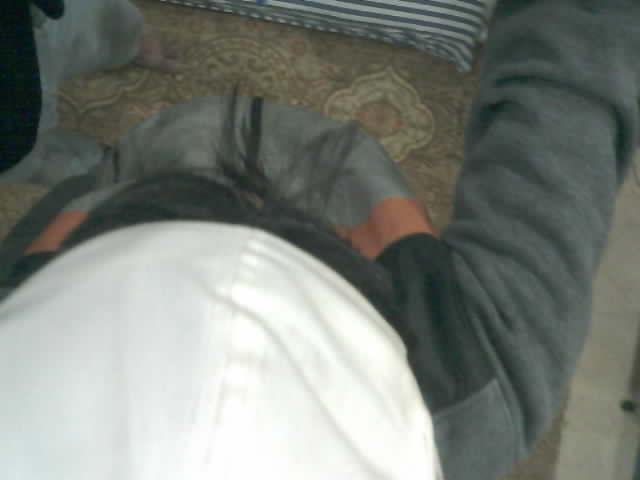cap: (0, 218, 445, 479)
